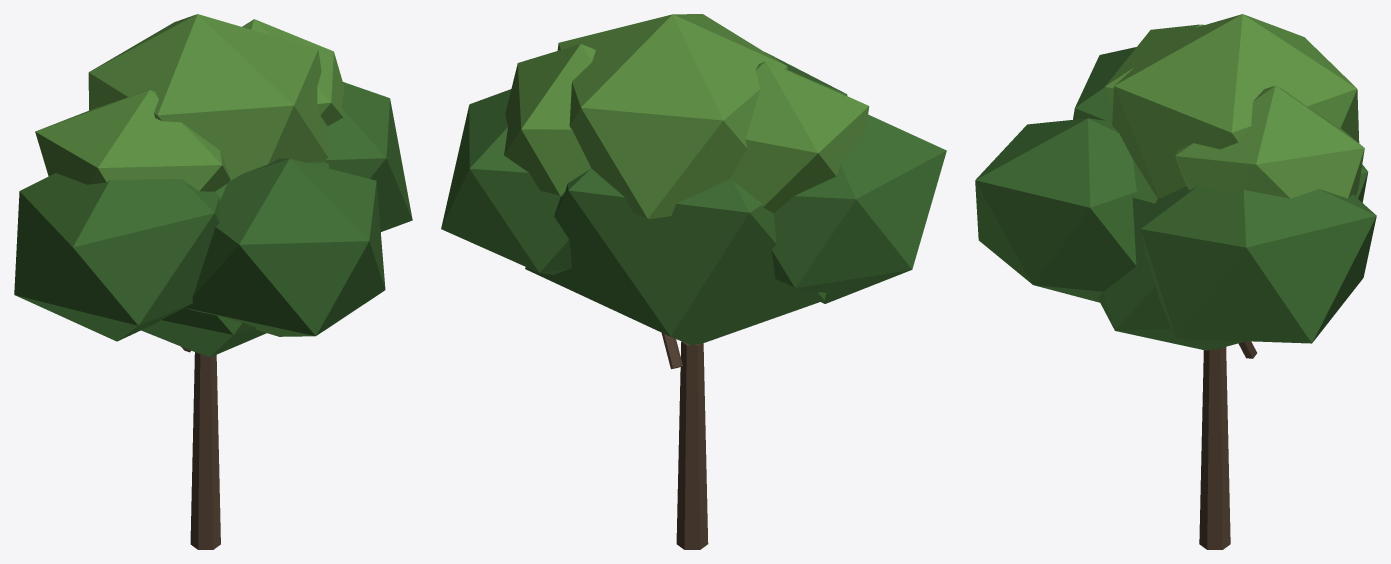
The model's file is round_tree.glb.
3 renders of one model, left to right at view 1: azimuth 30°, elevation 25°; view 2: azimuth 150°, elevation 25°; view 3: azimuth 270°, elevation 25°, orthographic. The views are drawn at different scales.
Parts seen in each view (by area): view 1: round_tree; view 2: round_tree; view 3: round_tree.
Boxes of the visible parts, x1,y1,x2,y2 form: round_tree: (14,14,412,549); round_tree: (441,14,946,549); round_tree: (975,14,1376,549).
Bounding box in the file's own units: 7.3 × 9.02 × 6.16.
